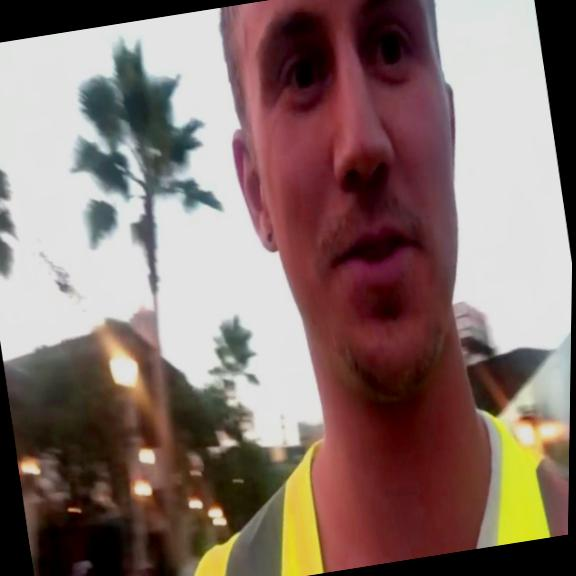safety_vest: (165, 393, 570, 576)
